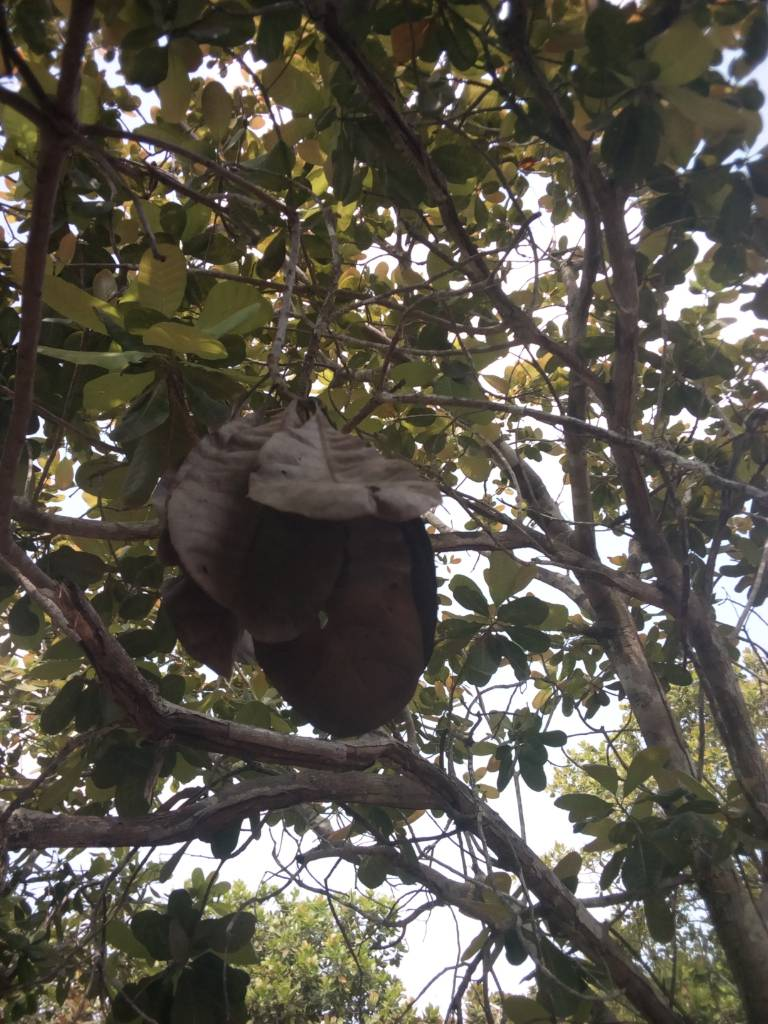Dessèchement des bourgeons: (233, 359, 411, 449), (650, 786, 748, 835)
